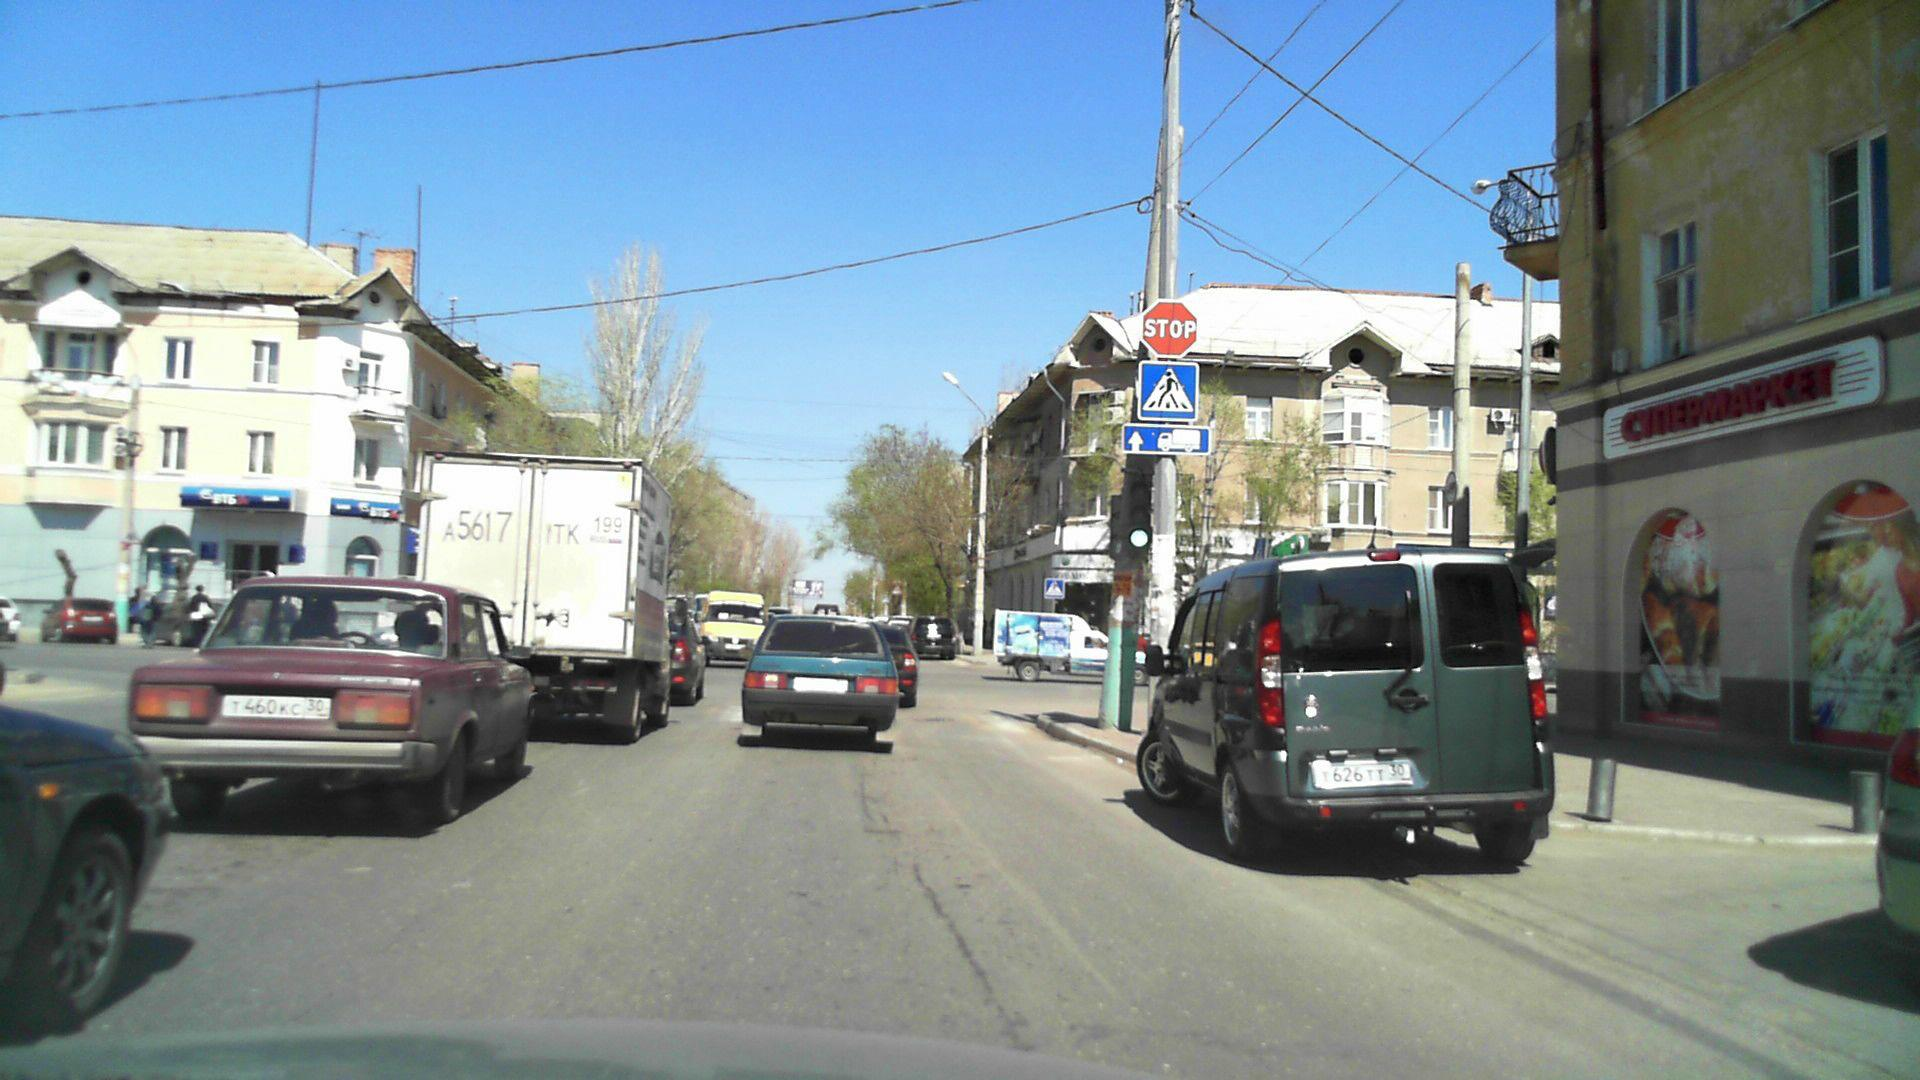2_5: (1138, 297, 1201, 359)
5_19_1: (1141, 363, 1199, 421), (1043, 578, 1065, 600)
6_15_1: (1121, 423, 1211, 455)
